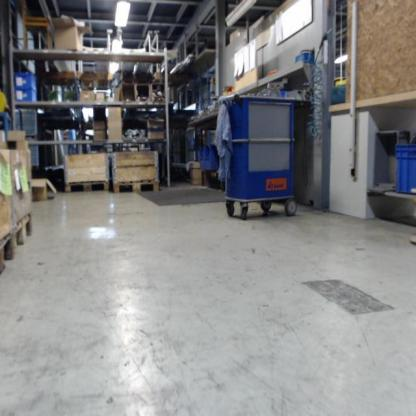pallet: (13, 208, 33, 259), (112, 178, 160, 196), (0, 227, 15, 277), (64, 178, 110, 194)
small_load_carrier: (397, 142, 416, 194), (14, 72, 39, 90), (199, 150, 217, 169), (14, 90, 38, 101)
